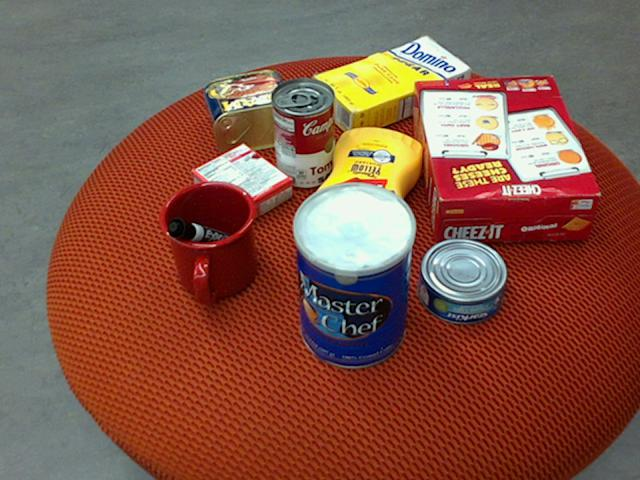cracker_box: (412, 75, 600, 242)
gelatin_box: (190, 141, 291, 227)
large_marker: (166, 219, 244, 254)
master_chef_can: (291, 184, 413, 369)
mug: (157, 181, 257, 305)
mustard_bottle: (310, 127, 423, 272)
potted_meat_can: (204, 68, 303, 153)
sugar_box: (311, 34, 471, 137)
tomato_soup_can: (271, 76, 335, 187)
tuna_fish_can: (418, 237, 508, 324)
